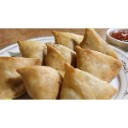samosa: (62, 62, 118, 99), (75, 43, 123, 82), (1, 55, 42, 100), (17, 65, 63, 101), (80, 28, 118, 57), (45, 40, 77, 71)
